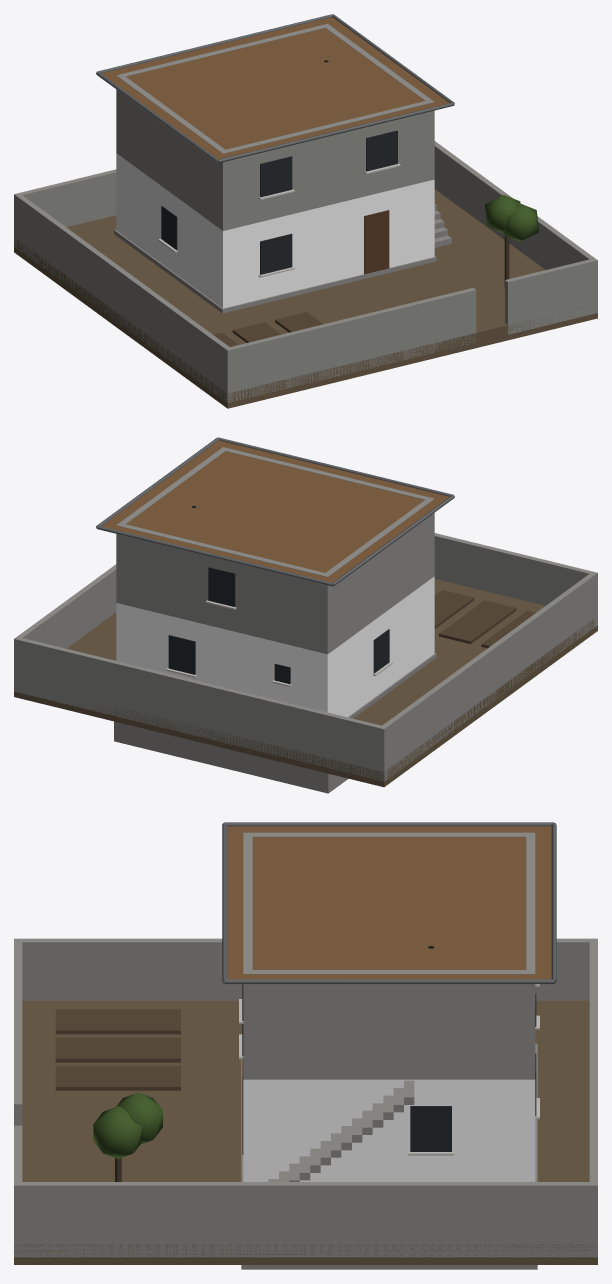
File: bina_11_alt.glb
3 views of the same model, one above another, from view 1: azimuth 30°, elevation 25°; view 2: azimuth 150°, elevation 25°; view 3: azimuth 270°, elevation 25° (orthographic). The views are drawn at different scales.
Parts seen in each view (by area): view 1: P11_alt; view 2: P11_alt; view 3: P11_alt.
Boxes of the visible parts, x1,y1,x2,y2 form: P11_alt: [14, 14, 597, 408]; P11_alt: [14, 437, 597, 793]; P11_alt: [14, 822, 597, 1269].
Size of the model in its own units: 14 by 7.86 by 14.
